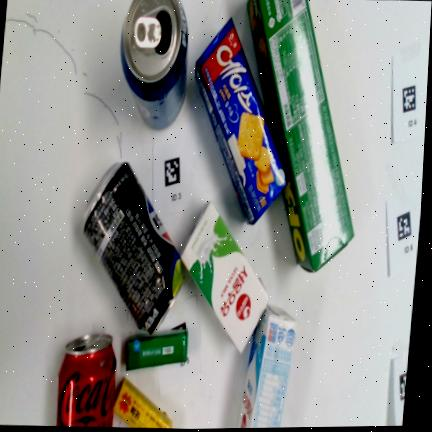can_coke_zero: (56, 334, 116, 427)
can_pepsi: (121, 0, 188, 130)
can_pepsi_zero: (84, 163, 183, 333)
cracker_ace: (195, 19, 285, 224)
cracker_vege: (247, 0, 354, 271)
gum_green: (126, 328, 188, 370)
gum_yellow: (114, 378, 171, 428)
milk_blue: (237, 306, 296, 428)
milk_green: (182, 202, 268, 352)
